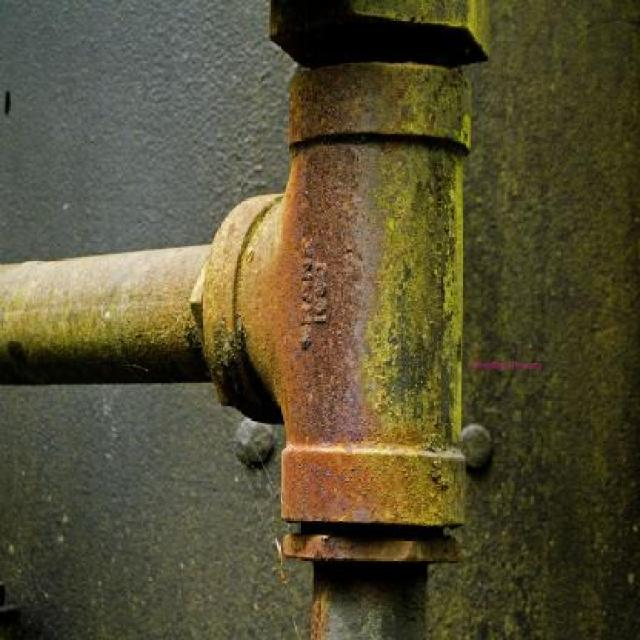corrosion: (2, 1, 491, 640)
